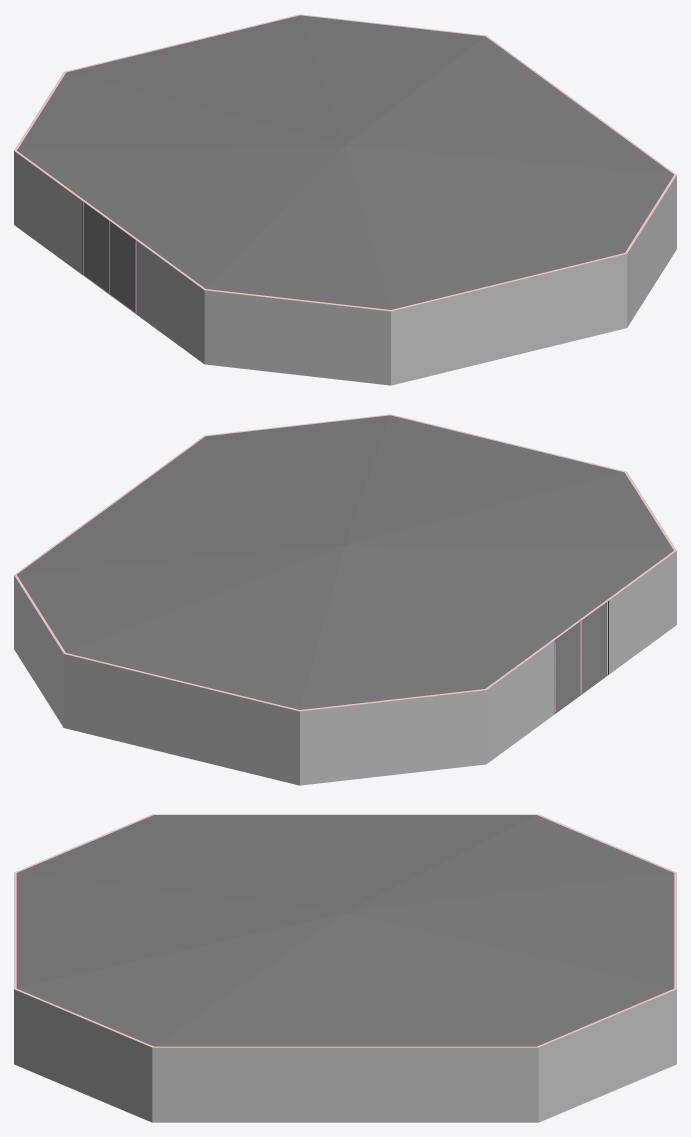
Rendered from Gallery3.gltf.
3 renders of one model, top to bottom at view 1: azimuth 30°, elevation 25°; view 2: azimuth 150°, elevation 25°; view 3: azimuth 270°, elevation 25°, orthographic.
Visible parts, largest first — view 1: Gallery; view 2: Gallery; view 3: Gallery.
Boxes of the visible parts, bbox=[...] form: Gallery: bbox=[14, 14, 676, 385]; Gallery: bbox=[14, 414, 676, 785]; Gallery: bbox=[14, 814, 676, 1122].
Bounding box in the file's own units: 20 × 3.72 × 24.
6 materials, 1 textured.
